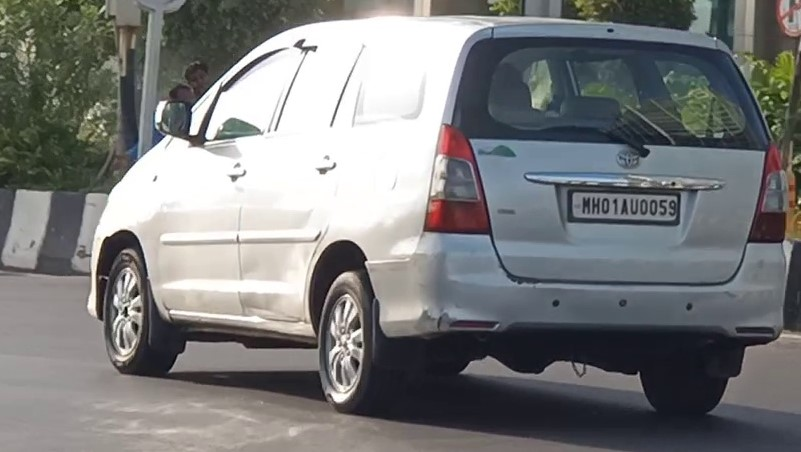MH01AU0059: (571, 192, 679, 221)
